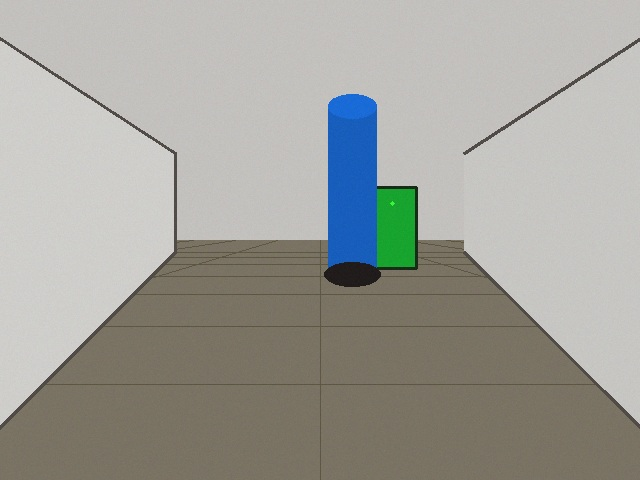charging_station: (367, 187, 416, 268)
person: (328, 106, 376, 274)
